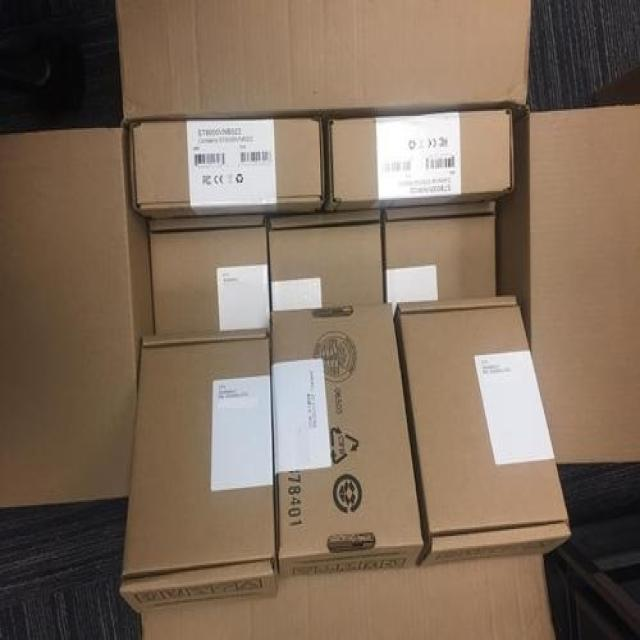box: (494, 102, 639, 524), (1, 128, 155, 507), (116, 0, 529, 126), (396, 294, 570, 567), (120, 329, 280, 614), (271, 305, 425, 577), (138, 558, 557, 640), (127, 119, 321, 236), (320, 109, 512, 222), (147, 225, 271, 335), (265, 220, 384, 312), (384, 212, 495, 304)
